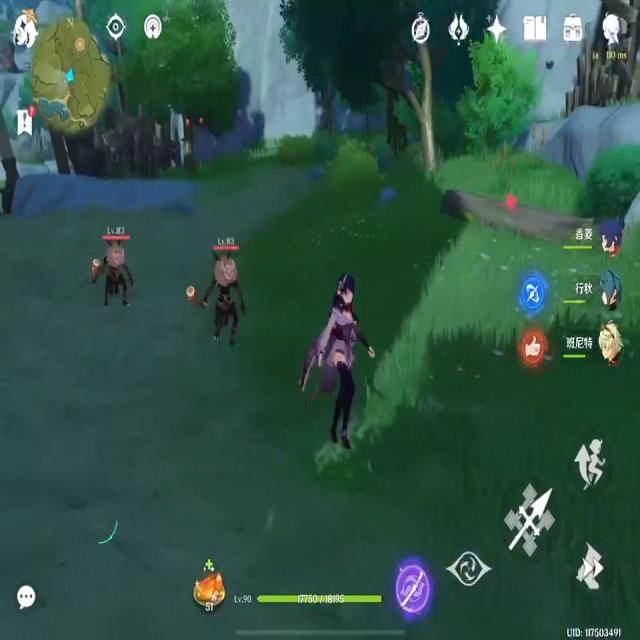genshin-hilichurls: (195, 255, 244, 342), (93, 243, 134, 309)
